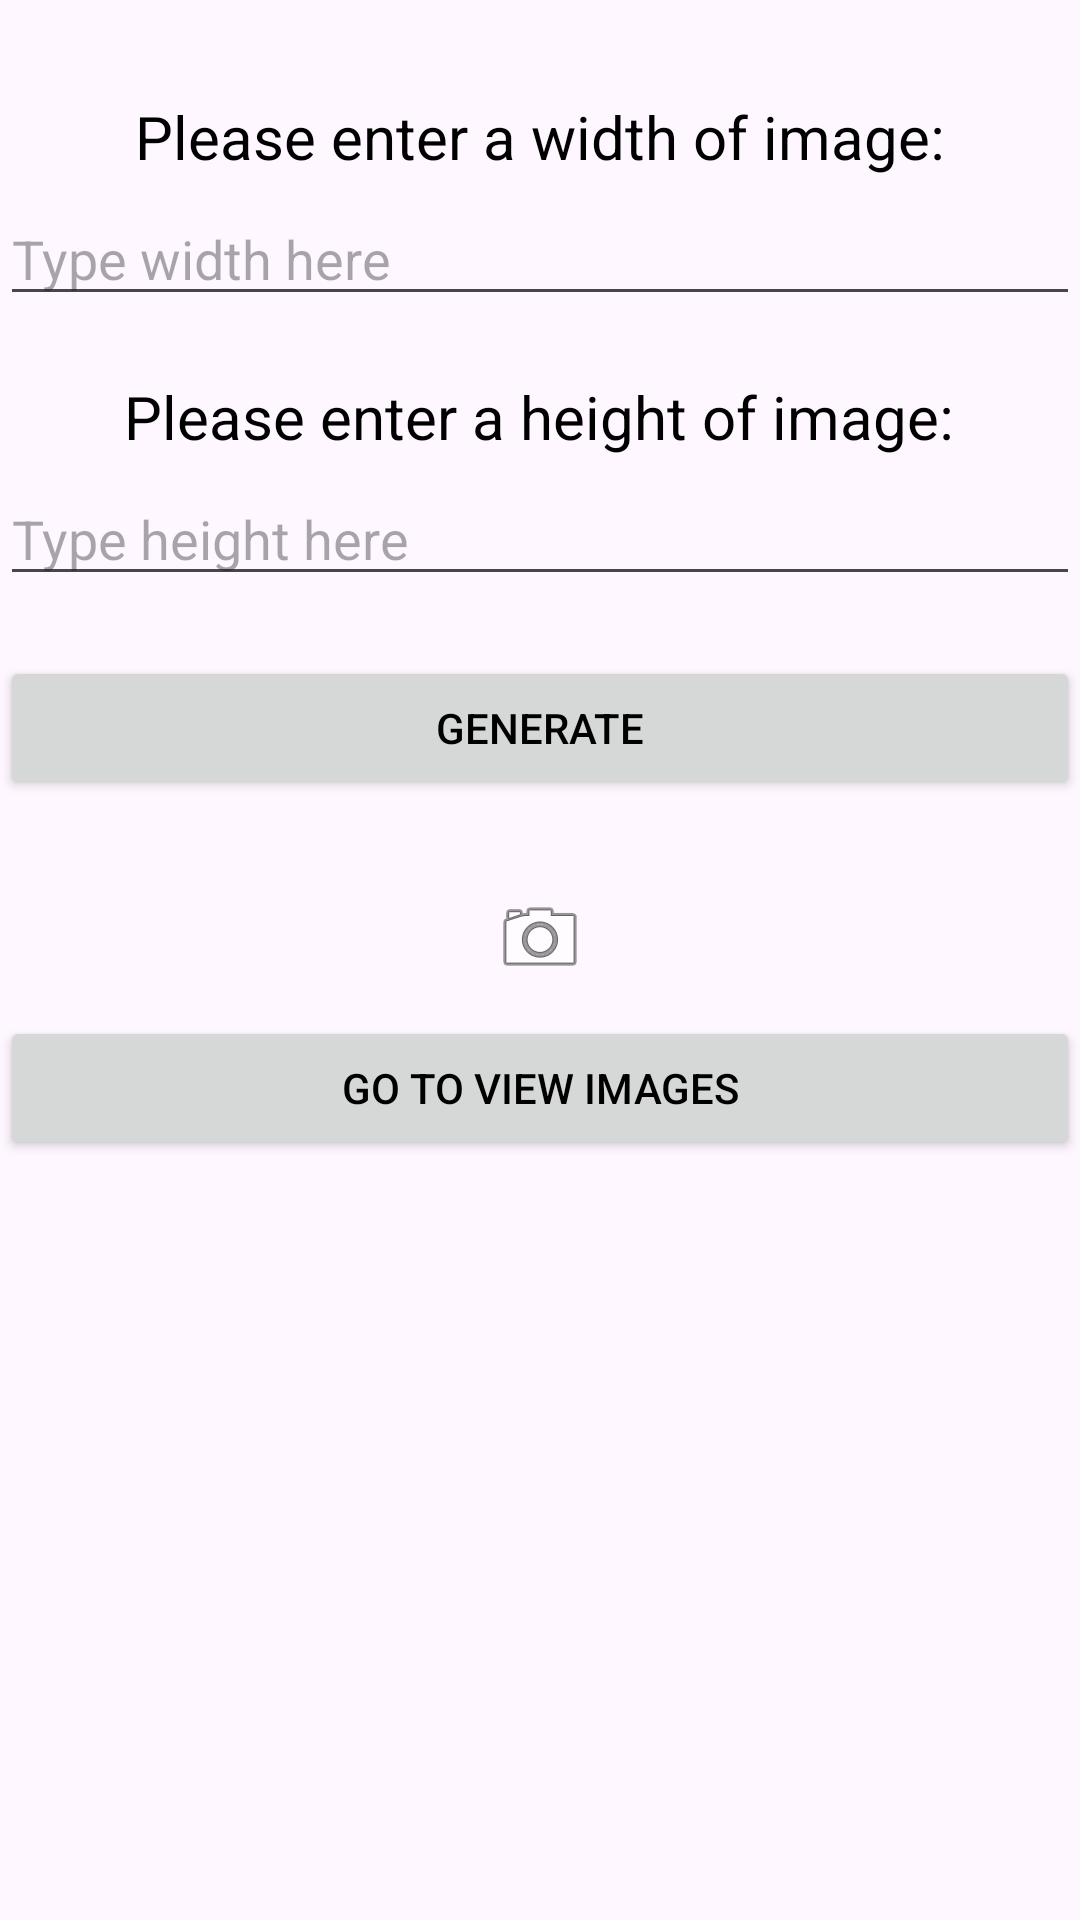

Icon bounding boxes for this 1080 x 1920 phone screenshot, format (x1, y1, x2, y2):
camera: (503, 907, 577, 966)
